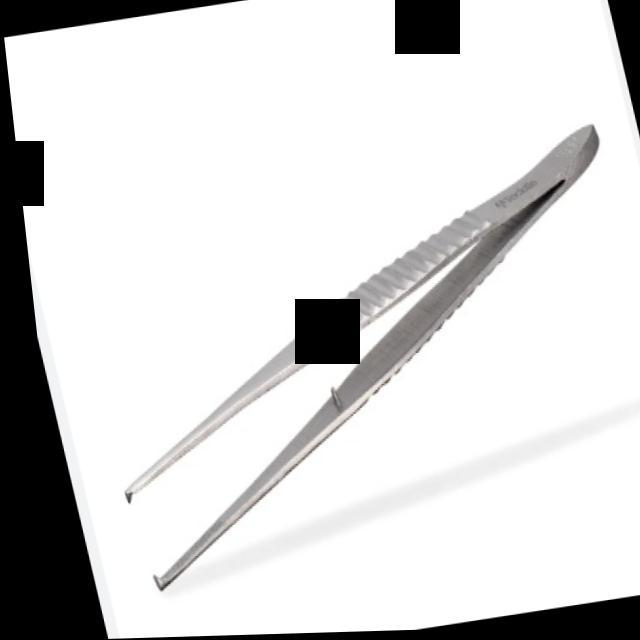Disscting Forceps -Plain-: (41, 117, 640, 596)
